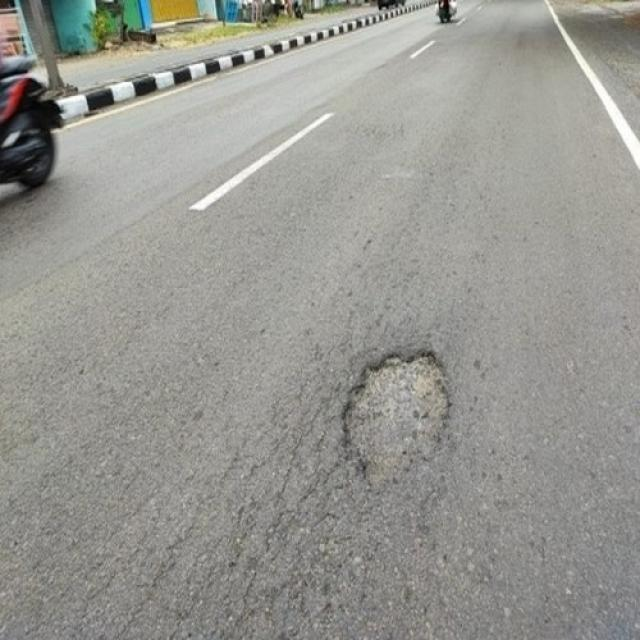Lubang: (341, 342, 446, 494)
